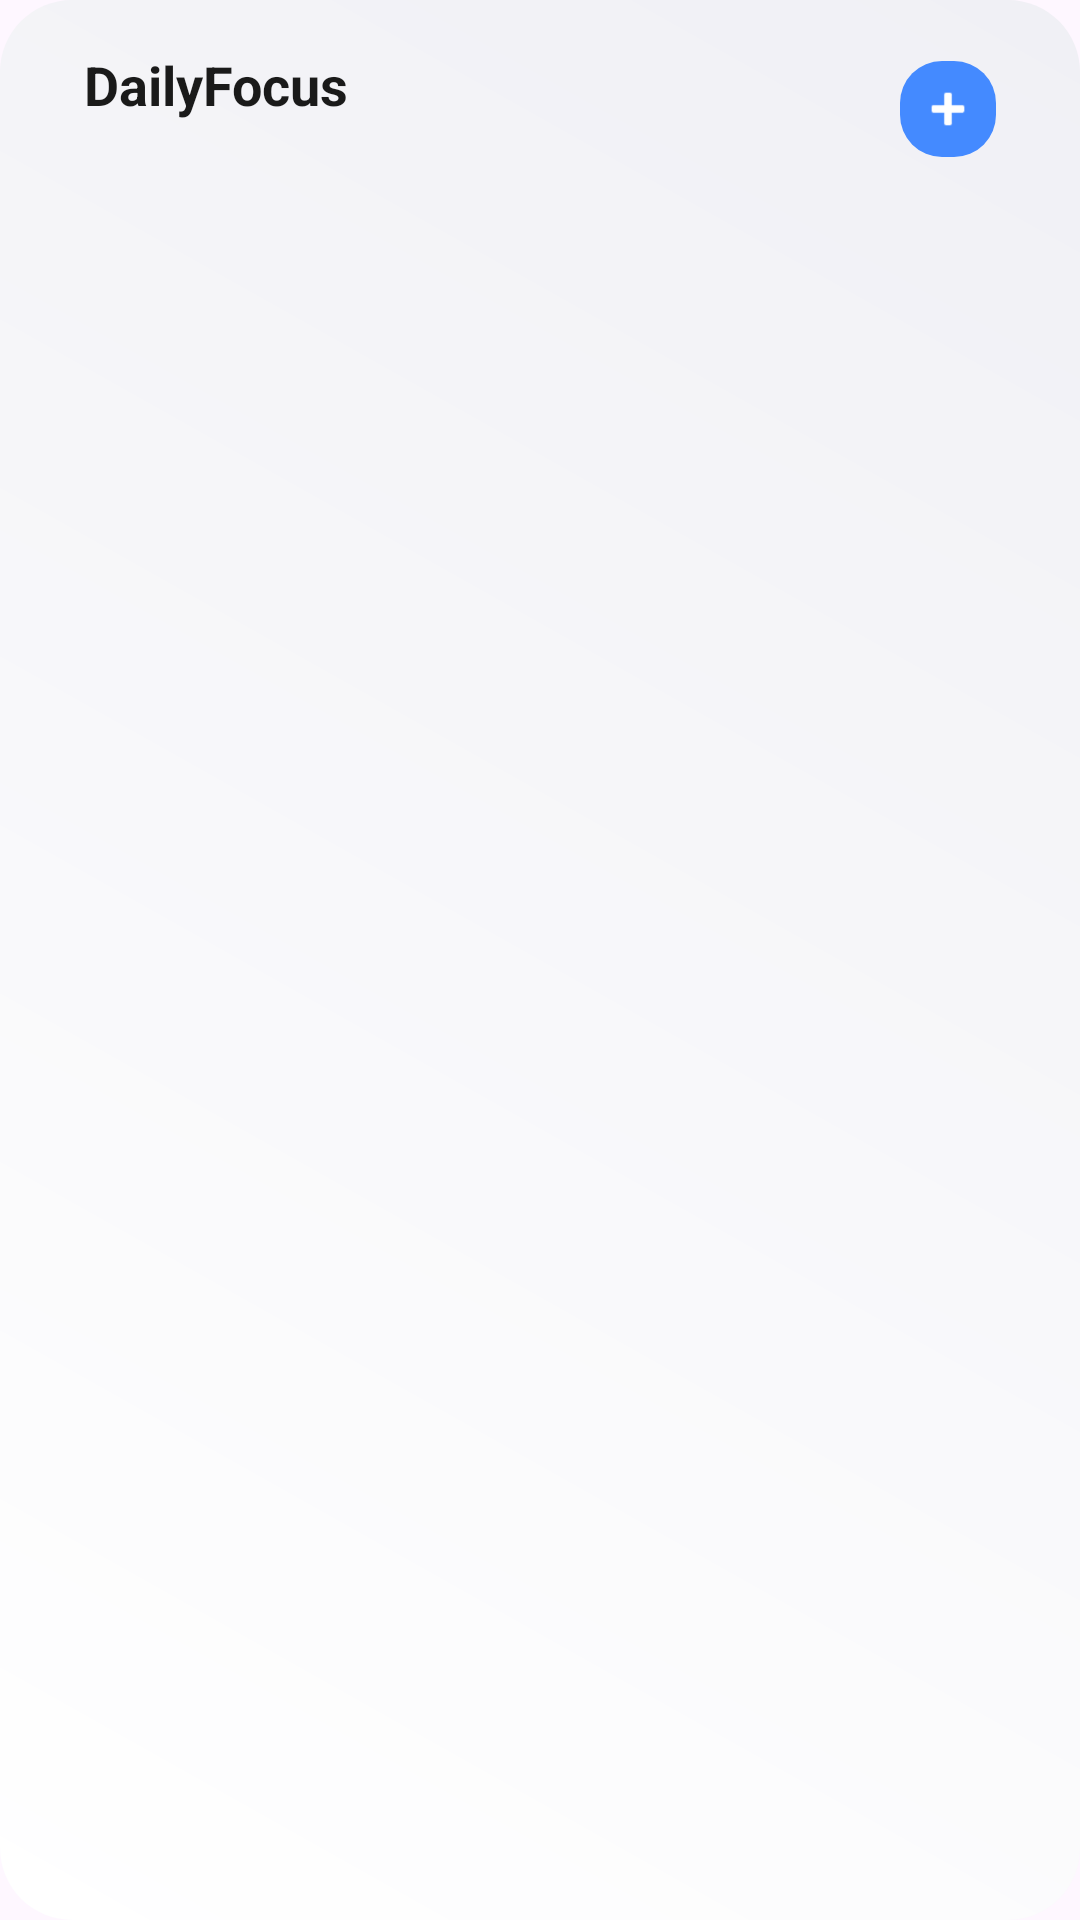

Screen size 1080px×1920px. Icon name, then its box in pixels as bbox(x1, y1, x2, y2):
add: bbox(900, 61, 996, 157)
